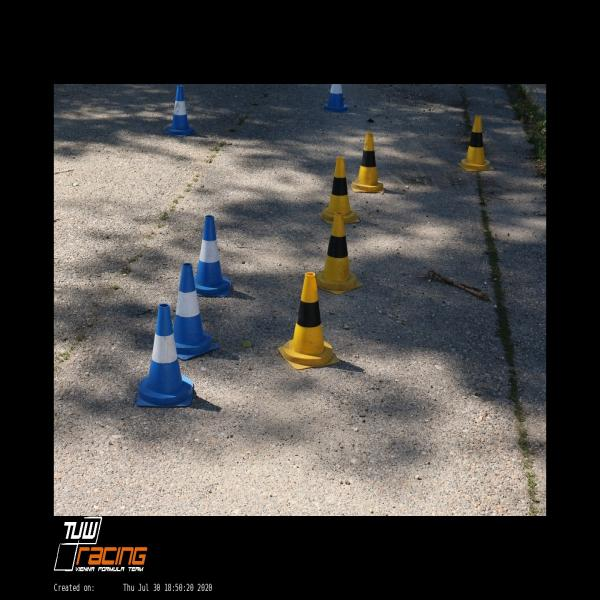blue_cone: (136, 304, 193, 406), (163, 263, 219, 359), (188, 215, 232, 298), (163, 85, 198, 138), (322, 85, 349, 112)
yellow_cone: (278, 272, 340, 369), (310, 212, 363, 294), (318, 156, 360, 224), (457, 115, 494, 171), (351, 132, 384, 193)
